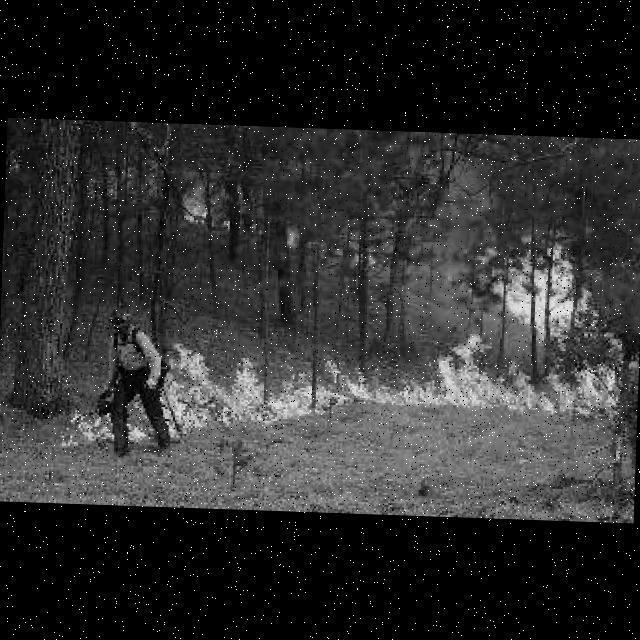Fire: (58, 317, 432, 462), (433, 216, 632, 417), (183, 199, 234, 227), (354, 247, 377, 268), (283, 225, 302, 250)
